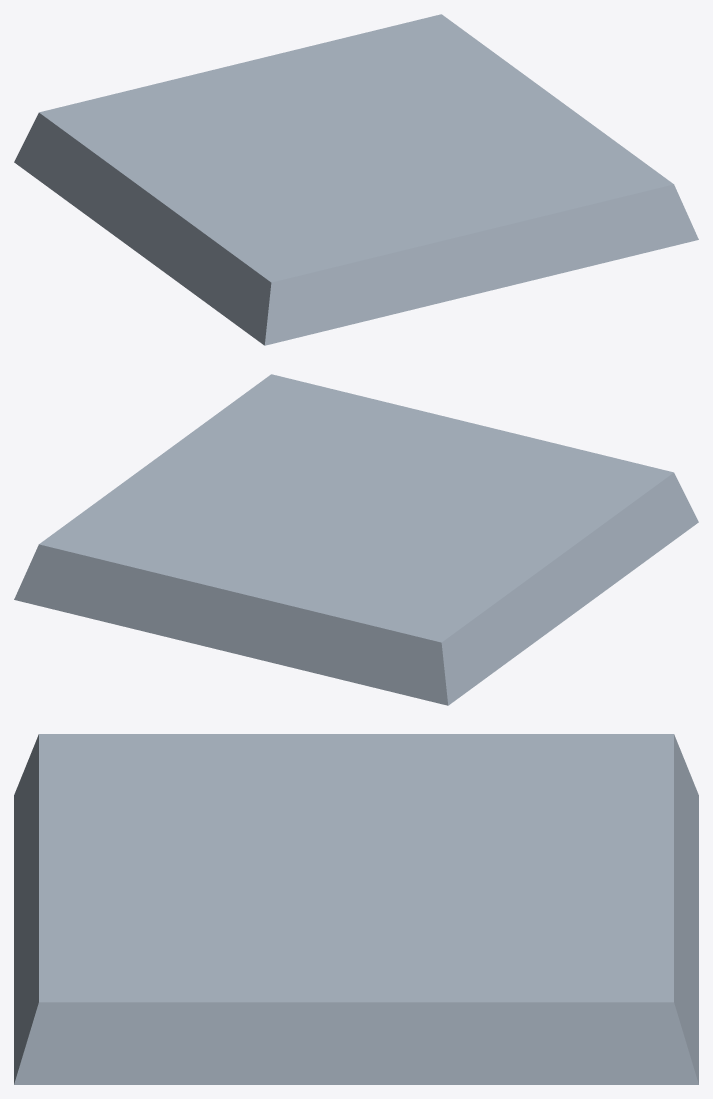
Rendered from plate_1_1.fbx.
3 renders of one model, top to bottom at view 1: azimuth 30°, elevation 25°; view 2: azimuth 150°, elevation 25°; view 3: azimuth 270°, elevation 25°, orthographic. The views are drawn at different scales.
Visible parts, largest first — view 1: plate_1_1; view 2: plate_1_1; view 3: plate_1_1.
Part boxes in pixels (x1=…): plate_1_1: x1=14, y1=14, x2=698, y2=345; plate_1_1: x1=14, y1=374, x2=698, y2=705; plate_1_1: x1=14, y1=734, x2=698, y2=1084.
Size of the model in its own units: 8.63 by 1 by 8.63.
